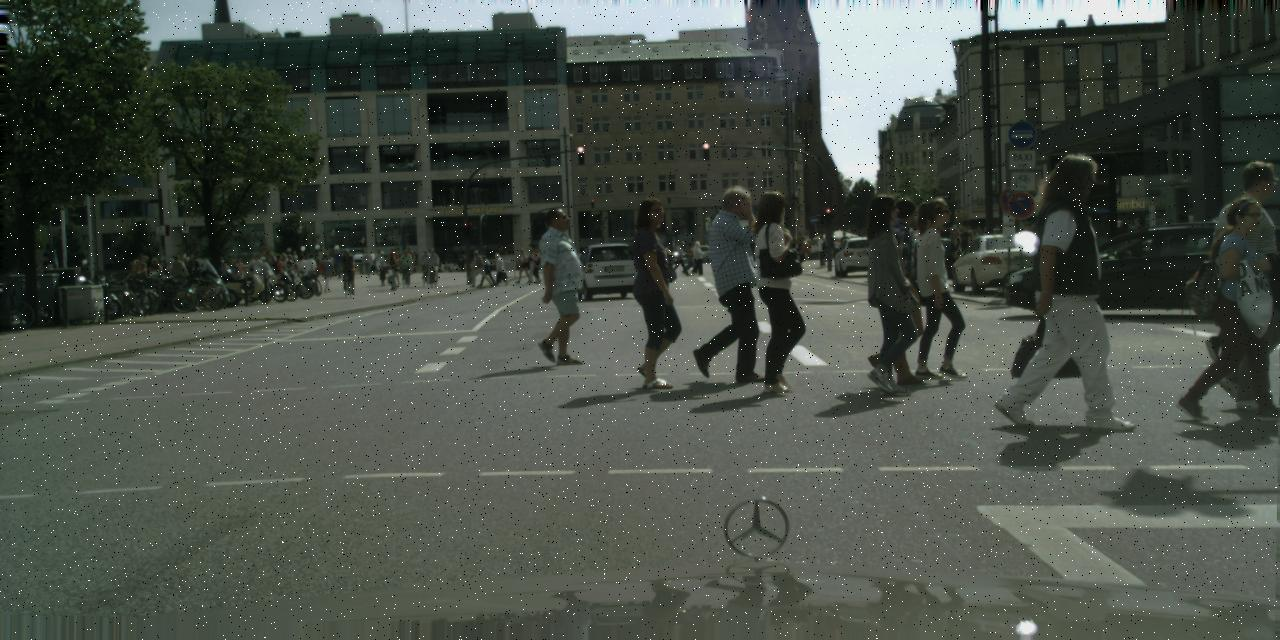ped: (1013, 154, 1125, 430), (1194, 195, 1279, 420), (1202, 161, 1279, 401), (737, 191, 819, 390), (845, 195, 925, 392), (690, 185, 770, 380), (614, 200, 691, 388), (860, 197, 934, 377), (902, 198, 974, 376), (1204, 198, 1272, 364), (526, 208, 590, 364), (248, 252, 293, 277), (338, 248, 356, 291), (168, 254, 185, 296), (384, 252, 400, 290), (130, 253, 146, 291), (134, 255, 150, 292), (318, 253, 333, 292), (1115, 221, 1130, 258), (471, 250, 486, 286), (949, 227, 971, 250), (386, 248, 400, 284), (515, 248, 529, 283), (674, 240, 688, 274), (374, 250, 388, 284), (214, 256, 228, 288), (492, 252, 506, 284), (837, 230, 850, 264), (690, 240, 703, 274), (304, 253, 317, 286), (822, 232, 835, 264), (479, 254, 492, 286), (683, 242, 696, 272), (530, 250, 542, 282), (525, 250, 537, 282), (815, 234, 827, 264), (296, 255, 308, 285), (233, 257, 245, 287), (426, 248, 438, 278), (399, 249, 411, 279), (149, 257, 161, 287), (331, 249, 343, 278), (820, 234, 831, 264), (938, 226, 949, 256), (227, 259, 238, 288), (420, 249, 430, 276), (796, 236, 806, 262), (326, 249, 336, 275), (362, 249, 372, 275), (798, 236, 808, 260), (972, 226, 982, 250), (404, 247, 414, 271), (374, 248, 383, 272), (444, 260, 461, 272), (661, 243, 670, 264), (1130, 217, 1144, 230), (969, 230, 978, 250), (290, 250, 298, 272), (788, 237, 796, 257), (688, 237, 695, 255), (672, 240, 678, 256), (515, 256, 520, 268)
